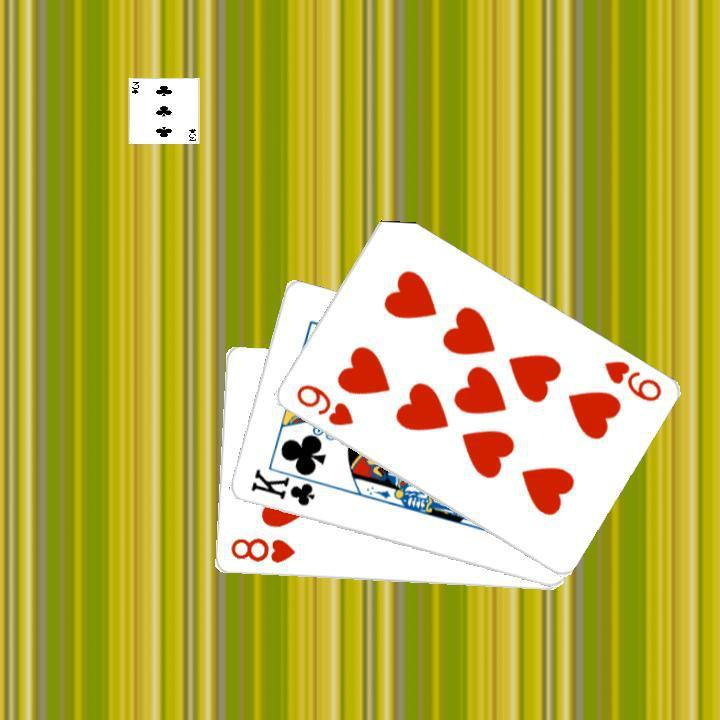8: (226, 534, 297, 565)
9: (291, 380, 355, 429), (599, 356, 664, 404)
K: (246, 461, 327, 509)
